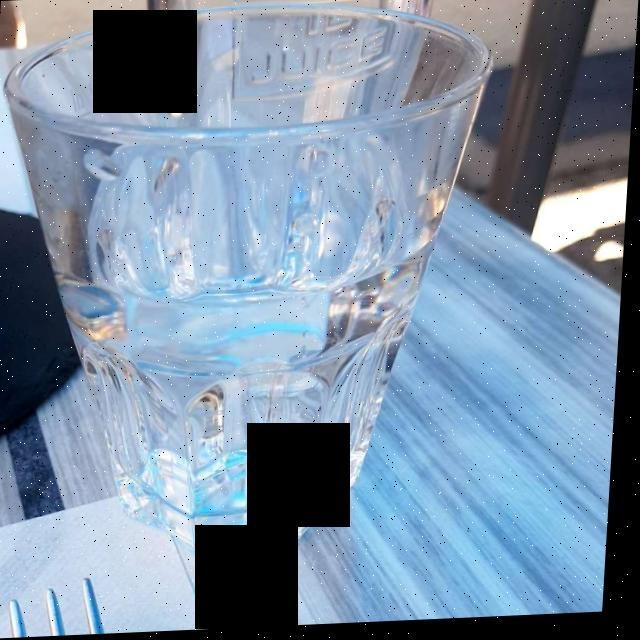water: (55, 33, 458, 512)
